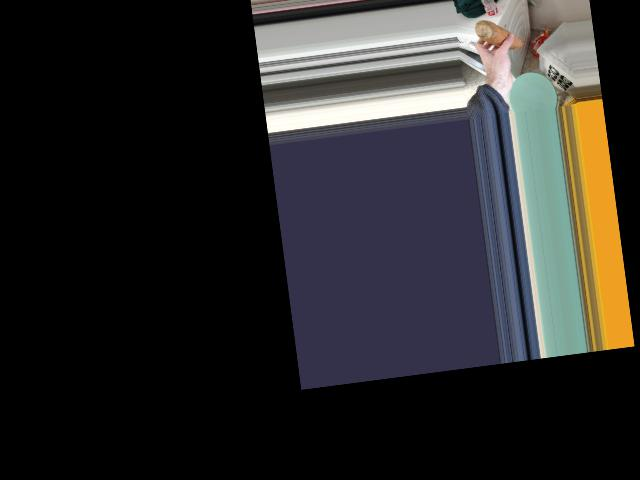sweet_potato: (474, 14, 523, 52)
